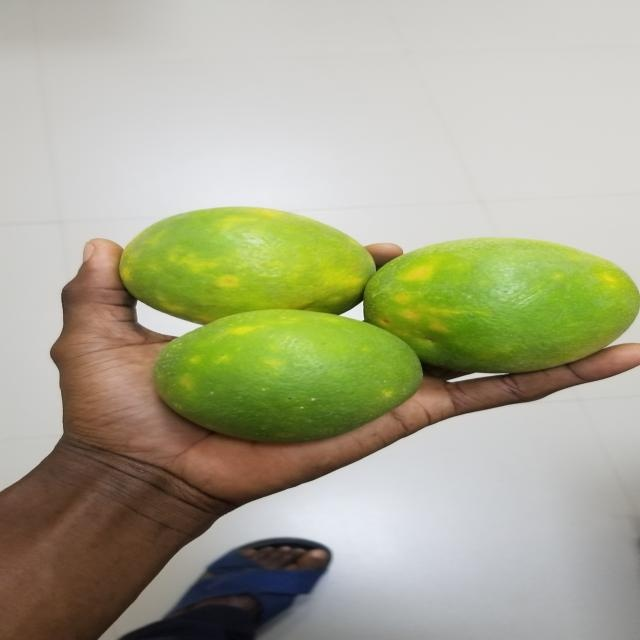agrume: (352, 235, 640, 373), (147, 308, 431, 446), (101, 203, 372, 321)
